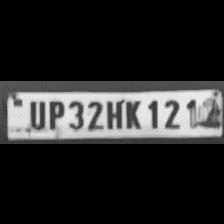1: (142, 96, 160, 130), (182, 95, 200, 129)
2: (160, 96, 182, 130), (198, 94, 220, 128), (84, 97, 104, 130)
3: (64, 96, 84, 130)
H: (104, 97, 122, 129)
K: (122, 96, 142, 130)
P: (46, 97, 64, 129)
U: (24, 97, 46, 129)
